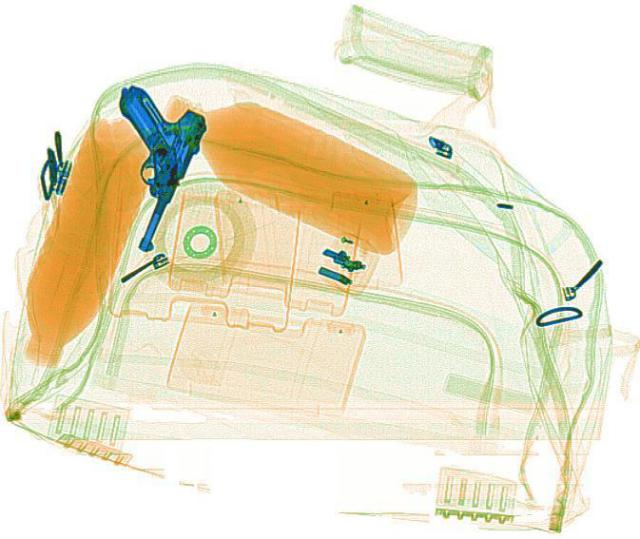Gun: (98, 81, 212, 255)
